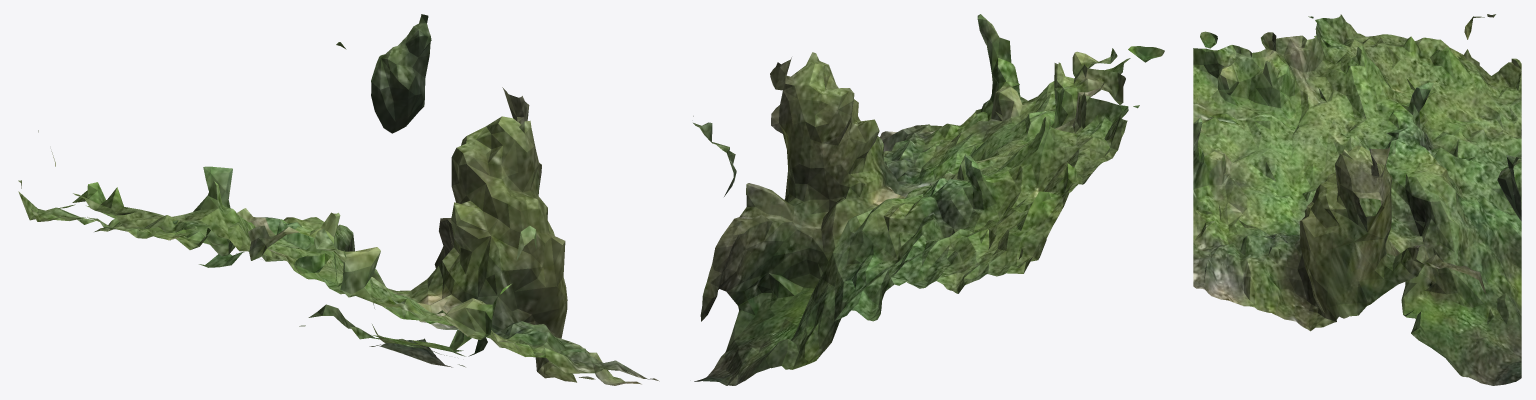
The picture shows the model from 3 angles, left to right: view 1: azimuth 30°, elevation 25°; view 2: azimuth 150°, elevation 25°; view 3: azimuth 270°, elevation 25°; orthographic projection. The views are drawn at different scales.
Size of the model in its own units: 11.8 by 9.25 by 11.8.
4 materials, 4 textured.
